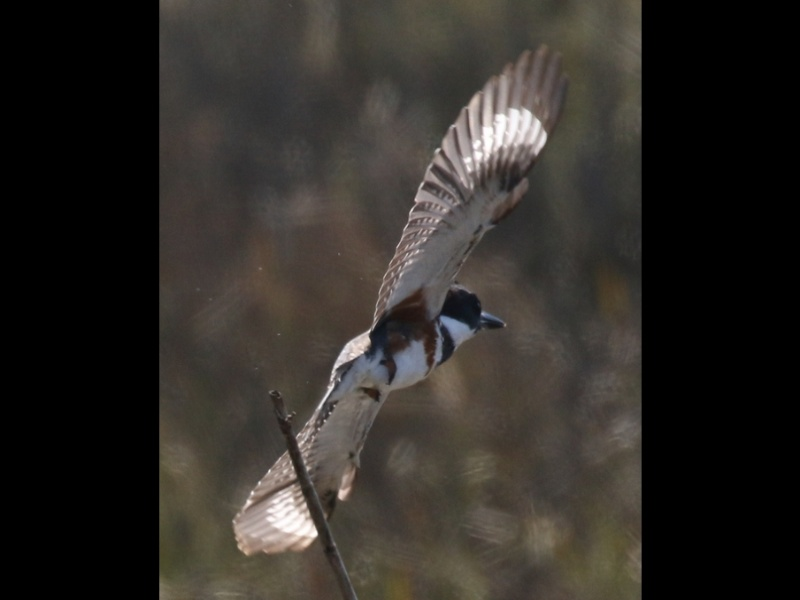kingfisher: (226, 35, 576, 560)
